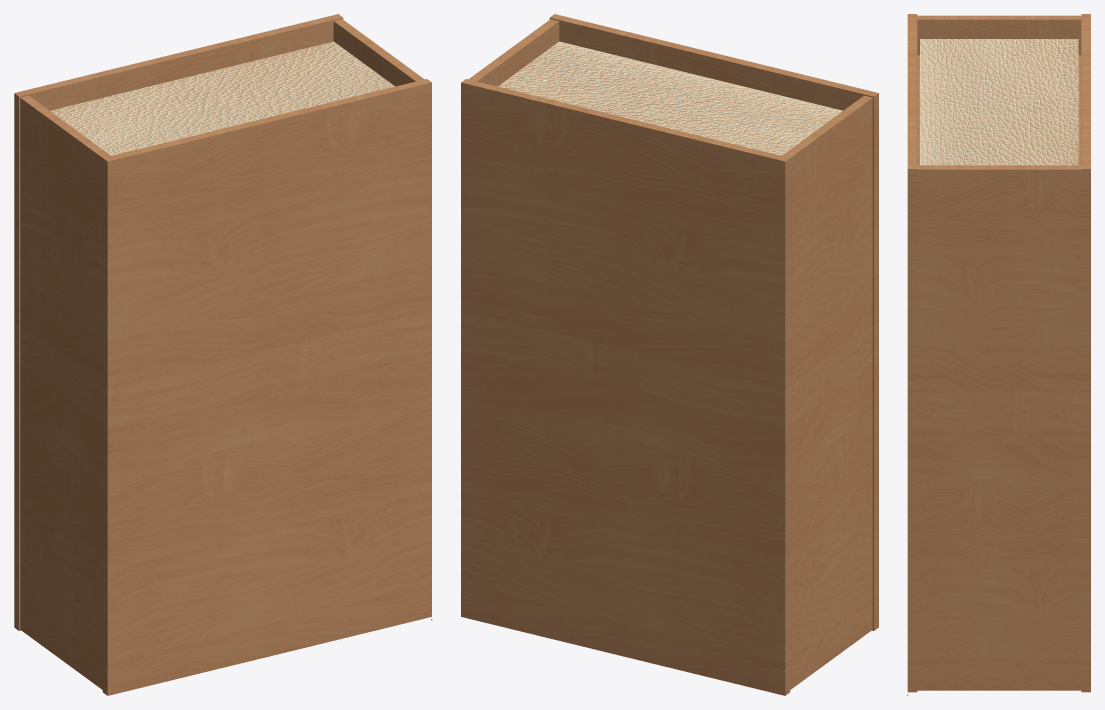
The model's file is dosmotrovoj_stol.glb.
The picture shows the model from 3 angles, left to right: view 1: azimuth 30°, elevation 25°; view 2: azimuth 150°, elevation 25°; view 3: azimuth 270°, elevation 25°; orthographic projection. The views are drawn at different scales.
Visible parts, largest first — view 1: Shape_IndexedFaceSet.005, Shape_IndexedFaceSet.002, Shape_IndexedFaceSet_NON, Shape_IndexedFaceSet.006, Shape_IndexedFaceSet.001; view 2: Shape_IndexedFaceSet.006, Shape_IndexedFaceSet.002, Shape_IndexedFaceSet_NON, Shape_IndexedFaceSet.005, Shape_IndexedFaceSet.001; view 3: Shape_IndexedFaceSet.001, Shape_IndexedFaceSet_NON, Shape_IndexedFaceSet.005, Shape_IndexedFaceSet.006, Shape_IndexedFaceSet.002, Shape_IndexedFaceSet.004.
Boxes of the visible parts, bbox=[...] form: Shape_IndexedFaceSet.005: bbox=[102, 79, 431, 695]; Shape_IndexedFaceSet.002: bbox=[20, 95, 110, 689]; Shape_IndexedFaceSet_NON: bbox=[50, 41, 394, 155]; Shape_IndexedFaceSet.006: bbox=[14, 14, 343, 630]; Shape_IndexedFaceSet.001: bbox=[333, 19, 424, 86]; Shape_IndexedFaceSet.006: bbox=[461, 79, 790, 695]; Shape_IndexedFaceSet.002: bbox=[782, 95, 872, 689]; Shape_IndexedFaceSet_NON: bbox=[498, 41, 842, 155]; Shape_IndexedFaceSet.005: bbox=[549, 14, 878, 630]; Shape_IndexedFaceSet.001: bbox=[468, 19, 559, 86]; Shape_IndexedFaceSet.001: bbox=[917, 165, 1081, 690]; Shape_IndexedFaceSet_NON: bbox=[920, 39, 1078, 165]; Shape_IndexedFaceSet.005: bbox=[907, 14, 917, 692]; Shape_IndexedFaceSet.006: bbox=[1081, 14, 1090, 692]; Shape_IndexedFaceSet.002: bbox=[917, 15, 1081, 164]; Shape_IndexedFaceSet.004: bbox=[917, 55, 1080, 165].
Bounding box in the file's own units: 601 × 951 × 301.
Materials: 20 (19 with a texture image).
